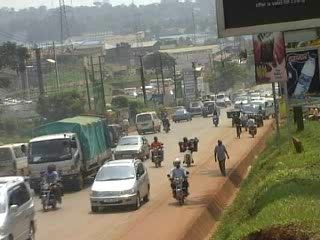Car: (85, 157, 151, 213), (0, 174, 39, 239), (111, 133, 150, 162), (106, 122, 131, 147), (170, 107, 193, 124), (189, 101, 207, 118), (226, 105, 241, 123), (233, 95, 250, 110), (203, 99, 216, 113), (212, 96, 226, 108), (248, 93, 260, 103), (222, 95, 230, 105)
Motorcycle: (165, 168, 193, 206), (37, 173, 64, 212), (147, 141, 167, 168), (210, 110, 221, 128), (161, 117, 171, 134)
